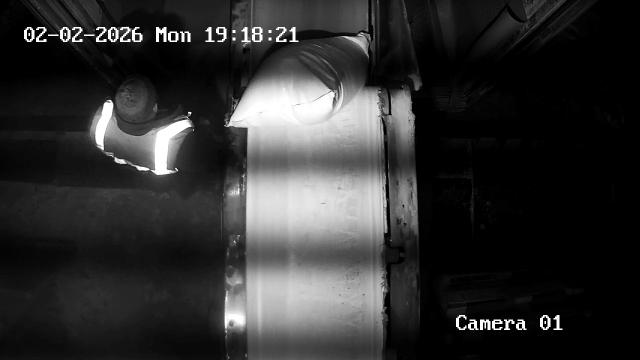bag: (230, 32, 370, 124)
